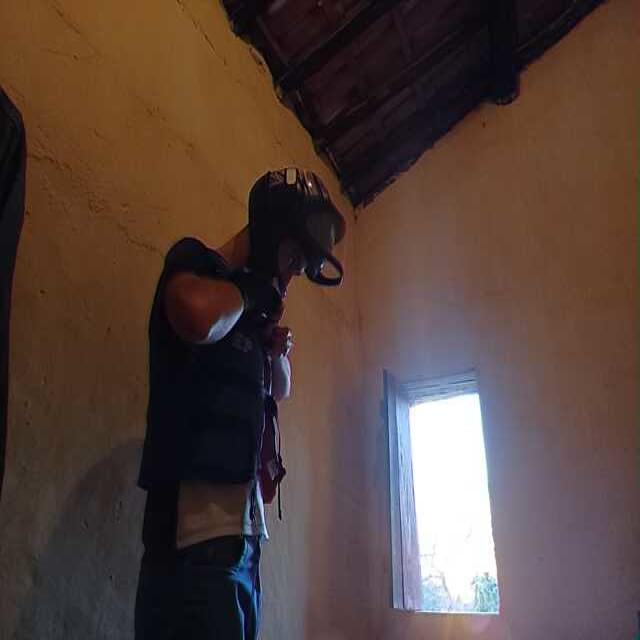capacete: (251, 159, 348, 300)
colete: (150, 220, 278, 497)
pessoa: (147, 179, 313, 634)
